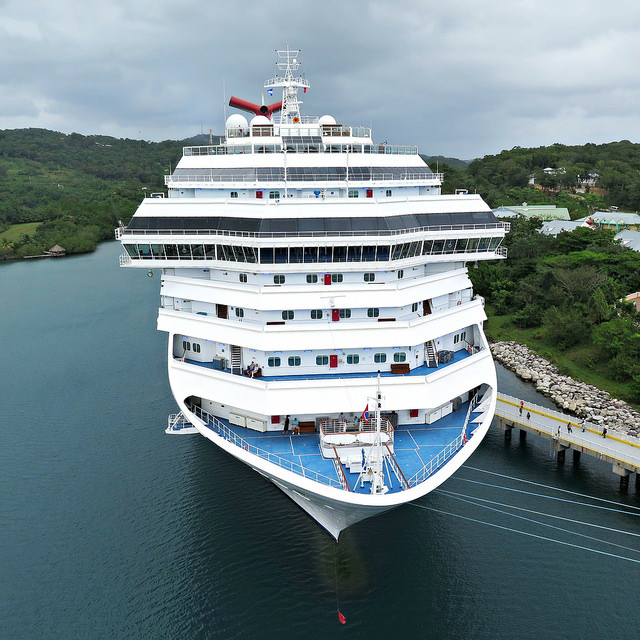cruise_ship: (116, 45, 513, 539)
